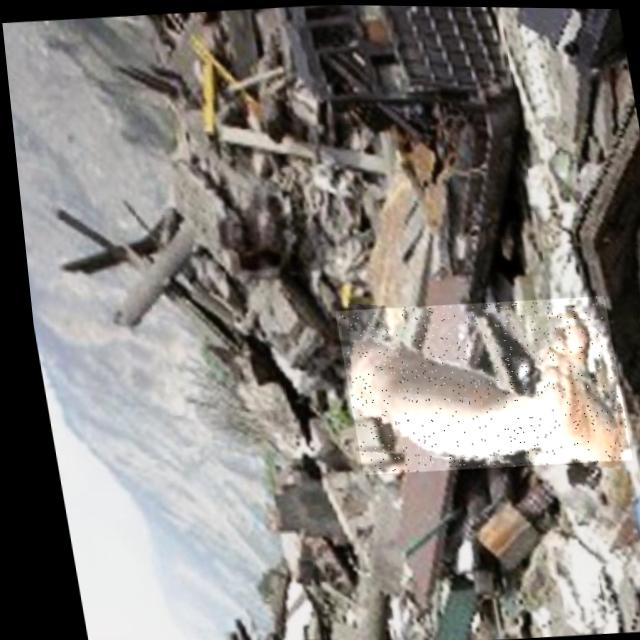Person in Rubble: (326, 290, 624, 476)
